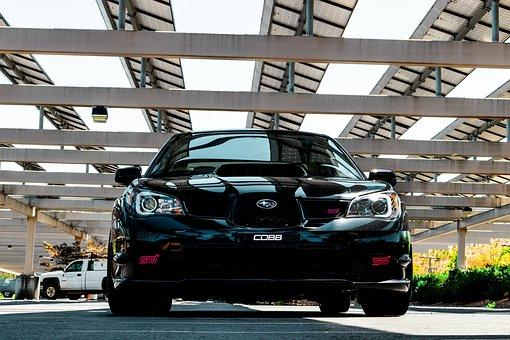subaru: (251, 193, 282, 213)
